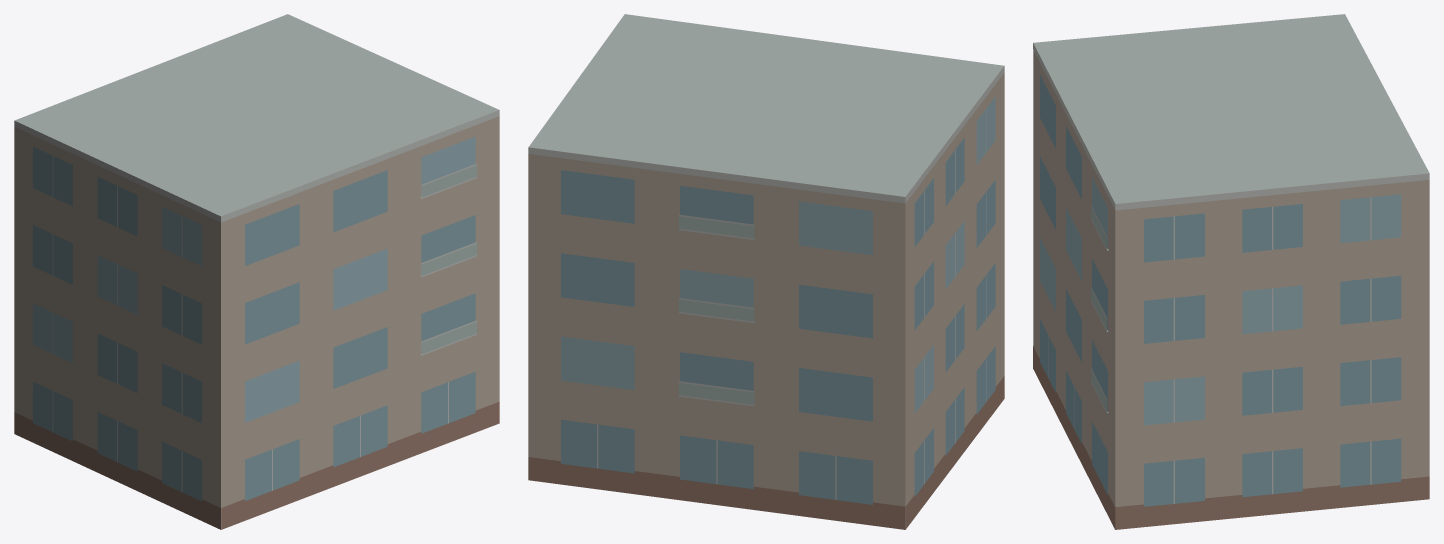
The model's file is survey-upis-32981097.glb.
3 views of the same model, side by side, from view 1: azimuth 30°, elevation 25°; view 2: azimuth 150°, elevation 25°; view 3: azimuth 270°, elevation 25° (orthographic). The views are drawn at different scales.
Parts seen in each view (by area): view 1: survey-upis-32981097.tmp; view 2: survey-upis-32981097.tmp; view 3: survey-upis-32981097.tmp.
Part boxes in pixels (x1,y1,x2,y2): survey-upis-32981097.tmp: [14, 14, 499, 529]; survey-upis-32981097.tmp: [528, 14, 1004, 529]; survey-upis-32981097.tmp: [1033, 14, 1429, 529].
Bounding box in the file's own units: 15.65 × 12.5 × 13.8.
